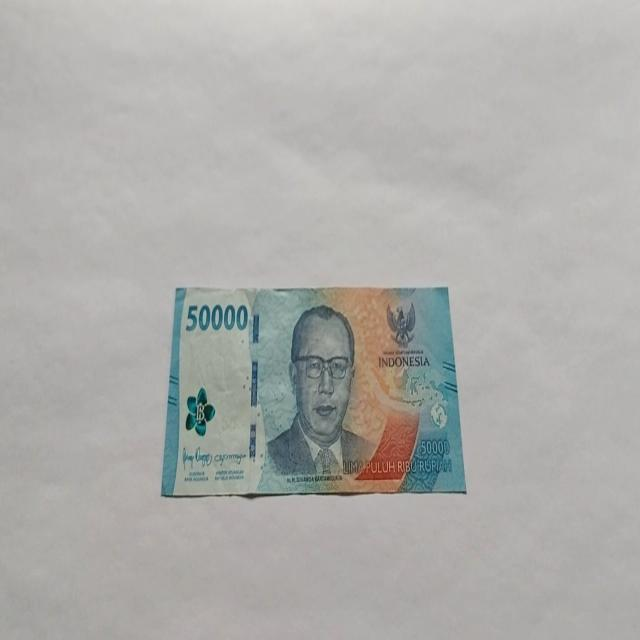lima puluh ribu rupiah: (160, 282, 467, 498), (259, 302, 381, 489)
